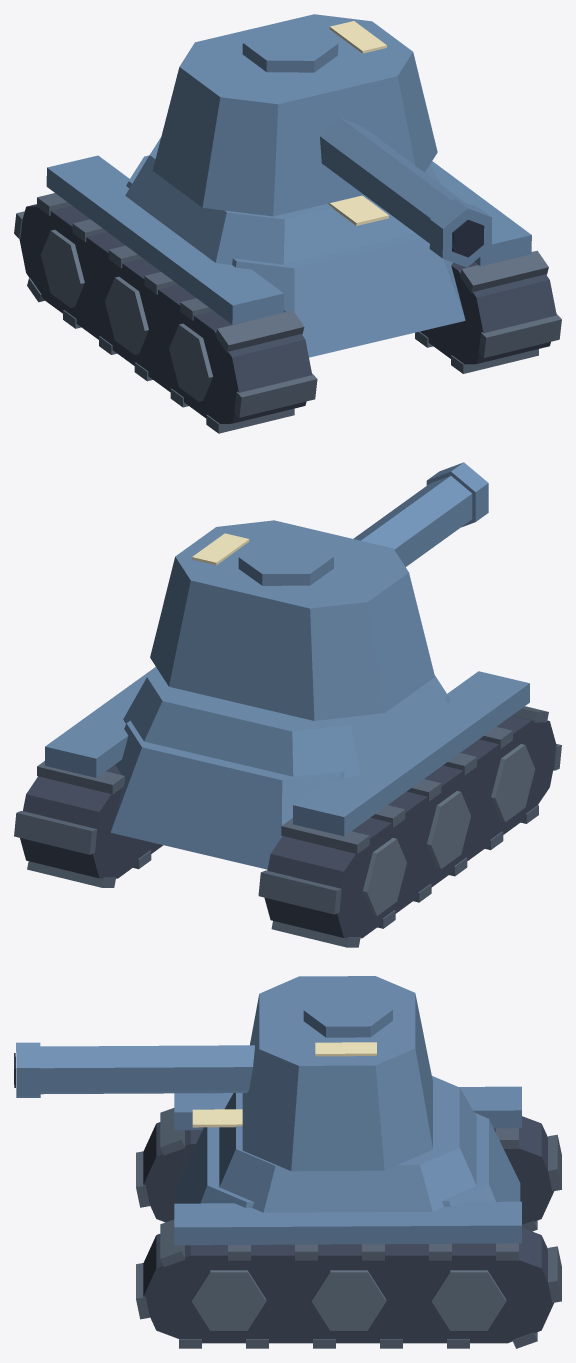
The model's file is tank_08_charcoal_command.glb.
3 views of the same model, one above another, from view 1: azimuth 30°, elevation 25°; view 2: azimuth 150°, elevation 25°; view 3: azimuth 270°, elevation 25° (orthographic). The views are drawn at different scales.
Visible parts, largest first — view 1: 08 | Armored turret.001, 08 | Track belt.001, 08 | Lower hull.001, 08 | Upper deck.001, 08 | Track guard.001, 08 | Cannon tube.001, 08 | Track belt.002, 08 | Commander hatch.001, 08 | Track guard.002, 08 | Muzzle rim.001, 08 | Road wheel.001, 08 | Road wheel.002 (+10 smaller); view 2: 08 | Armored turret.001, 08 | Track belt.001, 08 | Upper deck.001, 08 | Lower hull.001, 08 | Track guard.001, 08 | Track belt.002, 08 | Cannon tube.001, 08 | Track guard.002, 08 | Commander hatch.001, 08 | Road wheel.001, 08 | Road wheel.003, 08 | Road wheel.002 (+8 smaller); view 3: 08 | Armored turret.001, 08 | Track belt.002, 08 | Upper deck.001, 08 | Track guard.002, 08 | Cannon tube.001, 08 | Track belt.001, 08 | Lower hull.001, 08 | Road wheel.004, 08 | Road wheel.005, 08 | Road wheel.006, 08 | Track guard.001, 08 | Commander hatch.001 (+9 smaller).
Part boxes in pixels (left/top/right/bottom): 08 | Armored turret.001: left=152, top=14, right=437, bottom=216; 08 | Track belt.001: left=19, top=204, right=312, bottom=423; 08 | Lower hull.001: left=126, top=155, right=465, bottom=357; 08 | Upper deck.001: left=125, top=137, right=441, bottom=264; 08 | Track guard.001: left=46, top=155, right=283, bottom=324; 08 | Cannon tube.001: left=320, top=117, right=463, bottom=243; 08 | Track belt.002: left=420, top=262, right=556, bottom=364; 08 | Commander hatch.001: left=242, top=25, right=338, bottom=72; 08 | Track guard.002: left=430, top=161, right=531, bottom=266; 08 | Muzzle rim.001: left=429, top=199, right=492, bottom=267; 08 | Road wheel.001: left=169, top=323, right=212, bottom=401; 08 | Road wheel.002: left=105, top=276, right=148, bottom=354; 08 | Armored turret.001: left=150, top=520, right=434, bottom=720; 08 | Track belt.001: left=264, top=715, right=556, bottom=938; 08 | Upper deck.001: left=123, top=669, right=451, bottom=777; 08 | Lower hull.001: left=111, top=675, right=450, bottom=869; 08 | Track guard.001: left=293, top=671, right=529, bottom=836; 08 | Track belt.002: left=20, top=764, right=163, bottom=878; 08 | Cannon tube.001: left=353, top=476, right=472, bottom=566; 08 | Track guard.002: left=45, top=667, right=157, bottom=777; 08 | Commander hatch.001: left=238, top=539, right=333, bottom=585; 08 | Road wheel.001: left=491, top=744, right=535, bottom=822; 08 | Road wheel.003: left=363, top=838, right=406, bottom=915; 08 | Road wheel.002: left=427, top=791, right=470, bottom=868; 08 | Armored turret.001: left=242, top=976, right=432, bottom=1171; 08 | Track belt.002: left=143, top=1228, right=553, bottom=1343; 08 | Upper deck.001: left=219, top=1076, right=476, bottom=1212; 08 | Track guard.002: left=174, top=1201, right=521, bottom=1245; 08 | Cannon tube.001: left=40, top=1045, right=254, bottom=1094; 08 | Track belt.001: left=143, top=1116, right=554, bottom=1224; 08 | Lower hull.001: left=177, top=1112, right=520, bottom=1207; 08 | Road wheel.004: left=191, top=1270, right=266, bottom=1330; 08 | Road wheel.005: left=311, top=1270, right=386, bottom=1330; 08 | Road wheel.006: left=431, top=1270, right=506, bottom=1330; 08 | Track guard.001: left=174, top=1086, right=521, bottom=1130; 08 | Commander hatch.001: left=303, top=993, right=392, bottom=1037.
Size of the model in its own units: 1.6 by 1.34 by 2.49.
